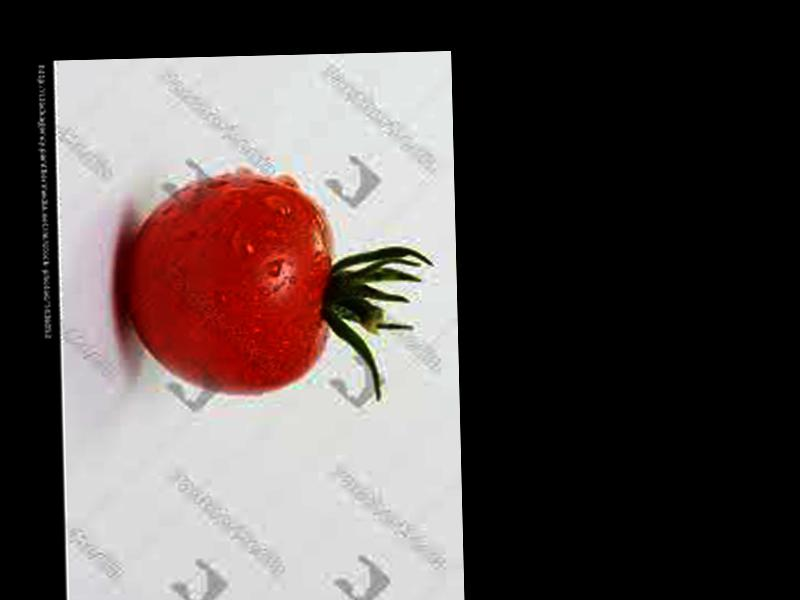Tomato: (123, 173, 331, 397)
